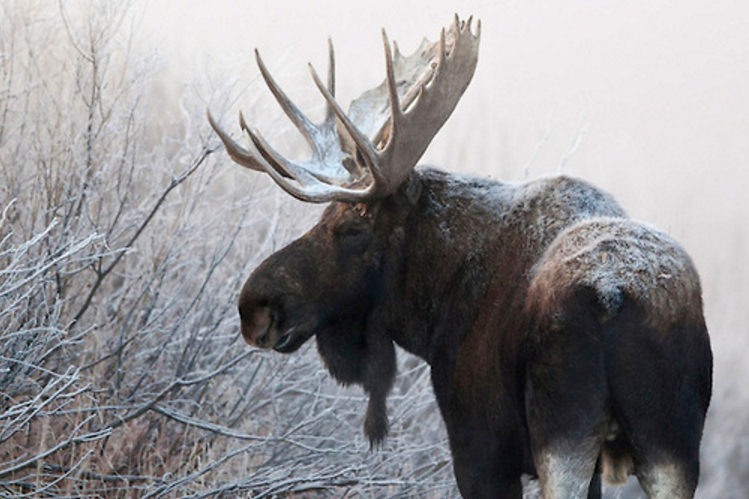moose: (205, 4, 714, 498)
